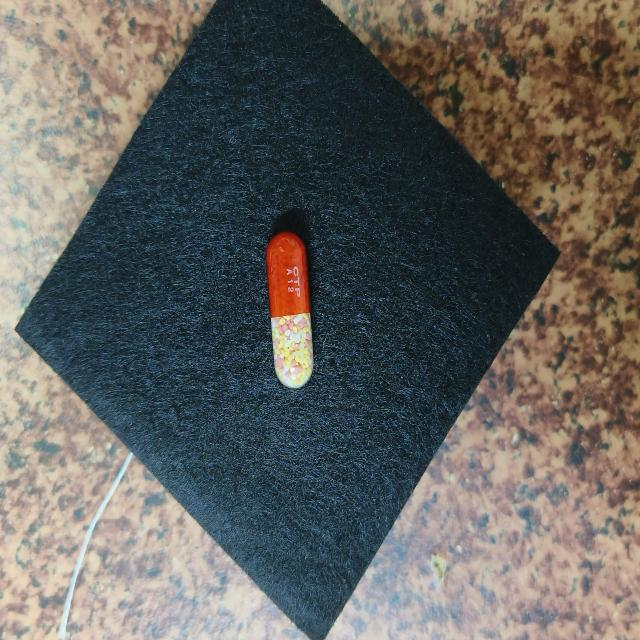Intact Capsule: (266, 231, 314, 388)
